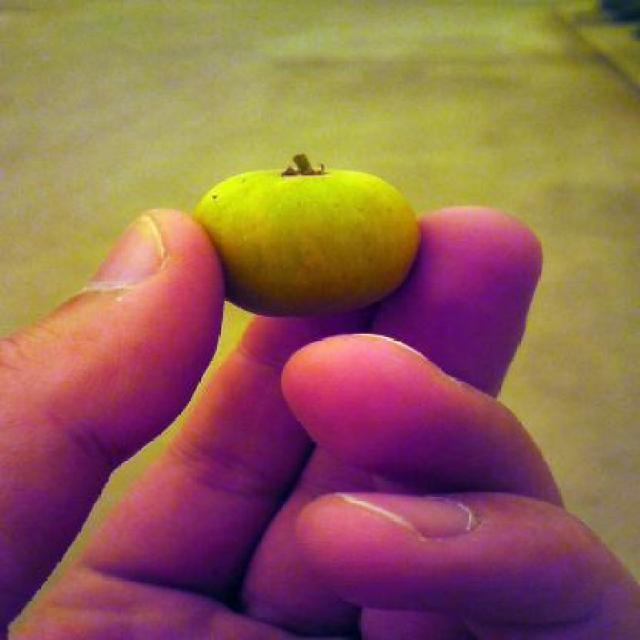Apple pie: (192, 152, 420, 318)
